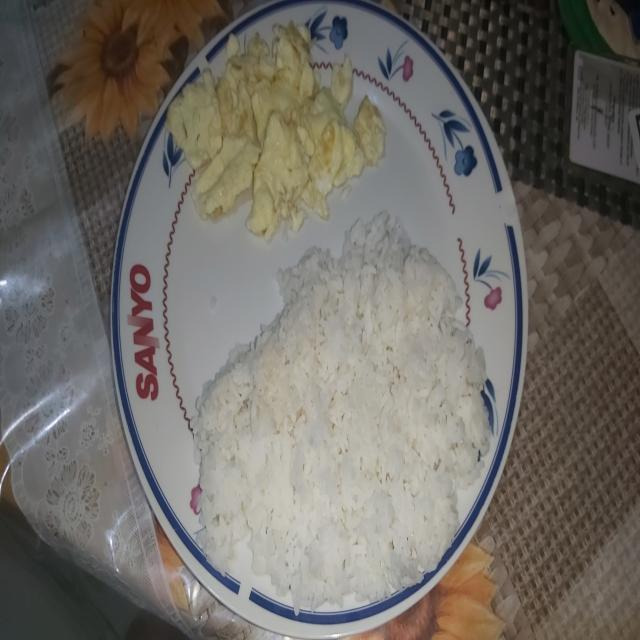Chicken -Chicken Inasal-: (197, 227, 485, 597)
